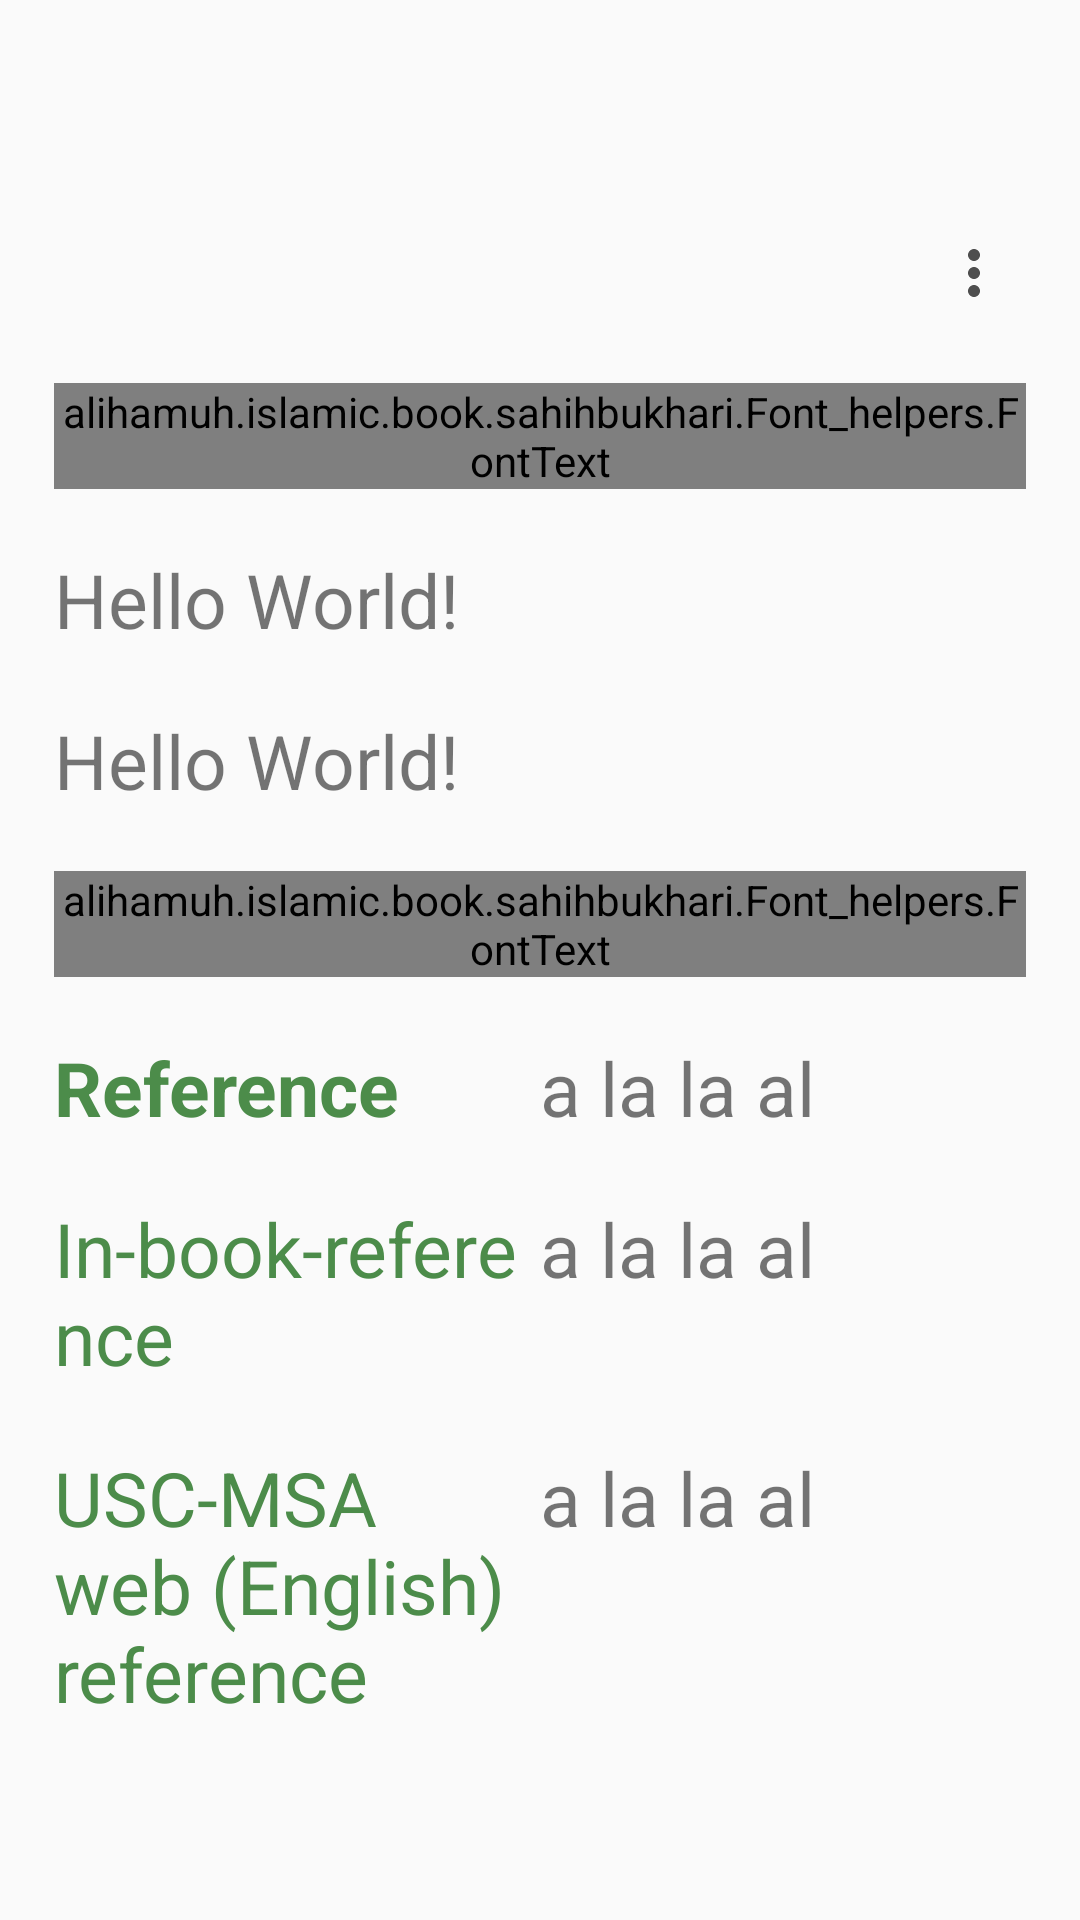

Named icons in this screenshot (1080*1920) and their bounding boxes, BBox(x1, y1, x2, y2):
more vert: BBox(968, 249, 980, 297)
